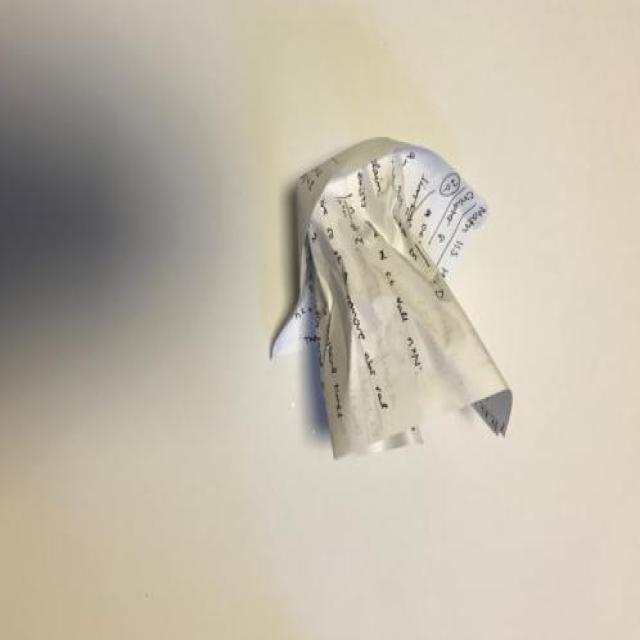kertas: (272, 138, 514, 463)
